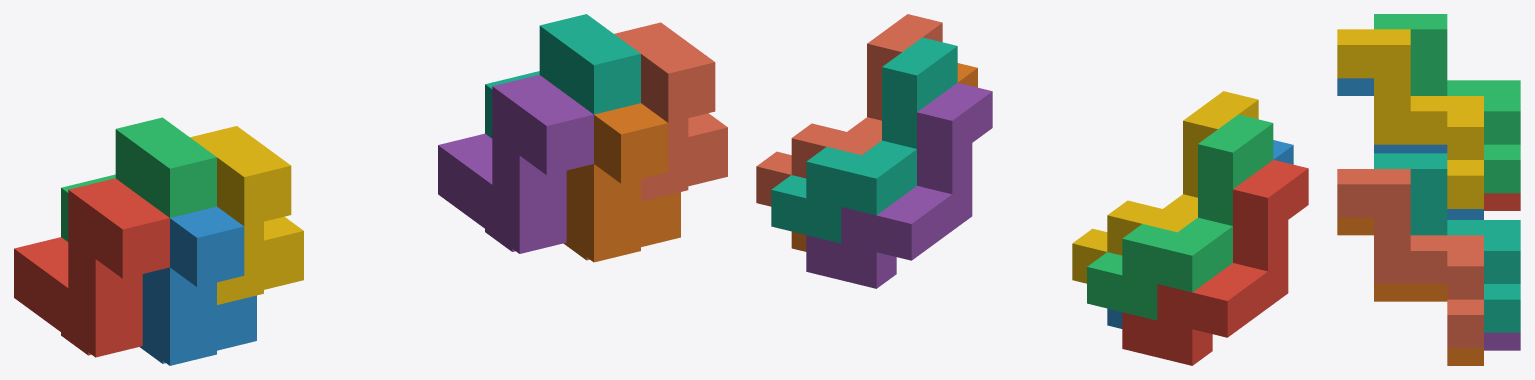
The model's file is tiling.obj.
3 views of the same model, side by side, from view 1: azimuth 30°, elevation 25°; view 2: azimuth 150°, elevation 25°; view 3: azimuth 270°, elevation 25° (orthographic). The views are drawn at different scales.
Parts seen in each view (by area): view 1: copy_1_domain_1, copy_1_domain_5, copy_1_domain_6, copy_1_domain_2, copy_1_domain_8, copy_1_domain_4, copy_1_domain_7, copy_1_domain_3; view 2: copy_1_domain_5, copy_1_domain_1, copy_1_domain_3, copy_1_domain_7, copy_1_domain_8, copy_1_domain_4, copy_1_domain_2, copy_1_domain_6; view 3: copy_1_domain_4, copy_1_domain_8, copy_1_domain_3, copy_1_domain_7, copy_1_domain_6, copy_1_domain_2, copy_1_domain_5, copy_1_domain_1.
Part boxes in pixels (box(x1,y1,x2,y2)): copy_1_domain_1: box(14, 178, 169, 357); copy_1_domain_5: box(438, 75, 593, 253); copy_1_domain_6: box(563, 103, 680, 262); copy_1_domain_2: box(140, 206, 256, 365); copy_1_domain_8: box(614, 22, 727, 201); copy_1_domain_4: box(190, 126, 303, 304); copy_1_domain_7: box(485, 14, 640, 138); copy_1_domain_3: box(61, 117, 216, 241); copy_1_domain_5: box(806, 82, 992, 288); copy_1_domain_1: box(1122, 160, 1308, 365); copy_1_domain_3: box(1087, 114, 1273, 320); copy_1_domain_7: box(771, 37, 957, 243); copy_1_domain_8: box(756, 14, 942, 206); copy_1_domain_4: box(1072, 91, 1258, 283); copy_1_domain_2: box(1107, 140, 1293, 328); copy_1_domain_6: box(791, 63, 977, 251); copy_1_domain_4: box(1337, 29, 1483, 208); copy_1_domain_8: box(1337, 169, 1483, 348); copy_1_domain_3: box(1374, 14, 1520, 193); copy_1_domain_7: box(1374, 153, 1520, 332); copy_1_domain_6: box(1337, 217, 1483, 365); copy_1_domain_2: box(1337, 78, 1483, 219); copy_1_domain_5: box(1484, 332, 1520, 350); copy_1_domain_1: box(1484, 193, 1520, 210).
Bounding box in the file's own units: 14 × 5 × 5.
